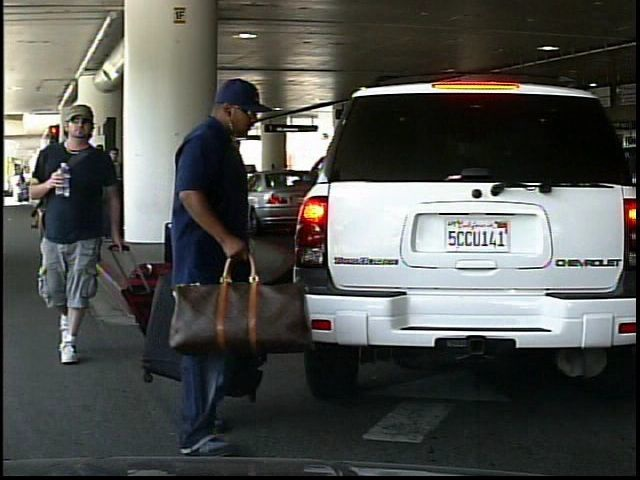person: (143, 74, 276, 453), (31, 102, 122, 366), (163, 130, 228, 272)
